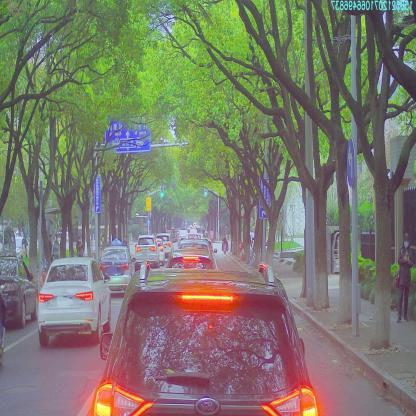traffic-light: (160, 183, 164, 197), (204, 185, 208, 196)
